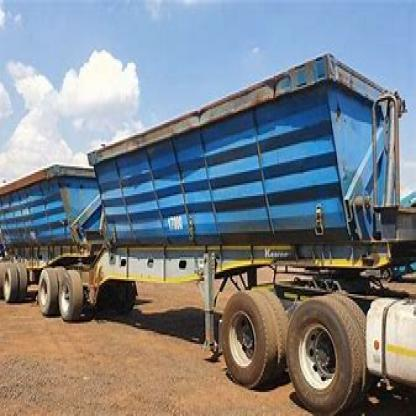dump_truck: (2, 63, 415, 408)
